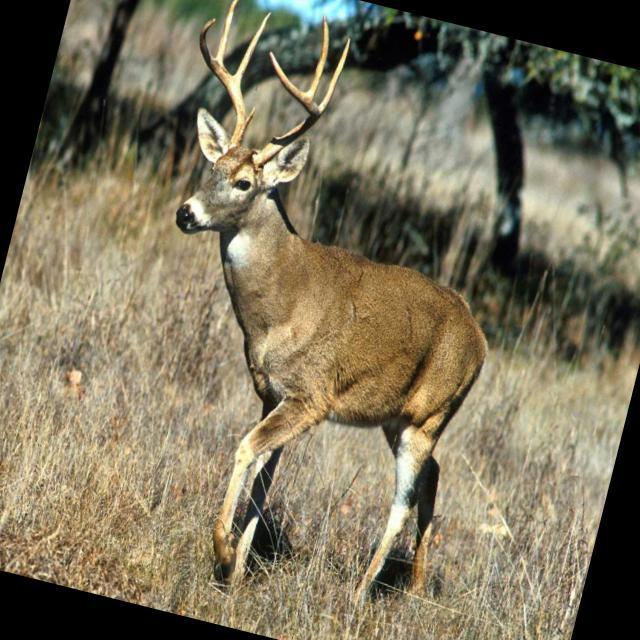L-F: (252, 50, 320, 171)
L-G1: (318, 37, 350, 116)
L-G2: (306, 13, 328, 100)
R-F: (198, 17, 245, 150)
R-G1: (242, 105, 255, 128)
R-G2: (234, 11, 271, 82)
R-G3: (215, 0, 239, 64)
